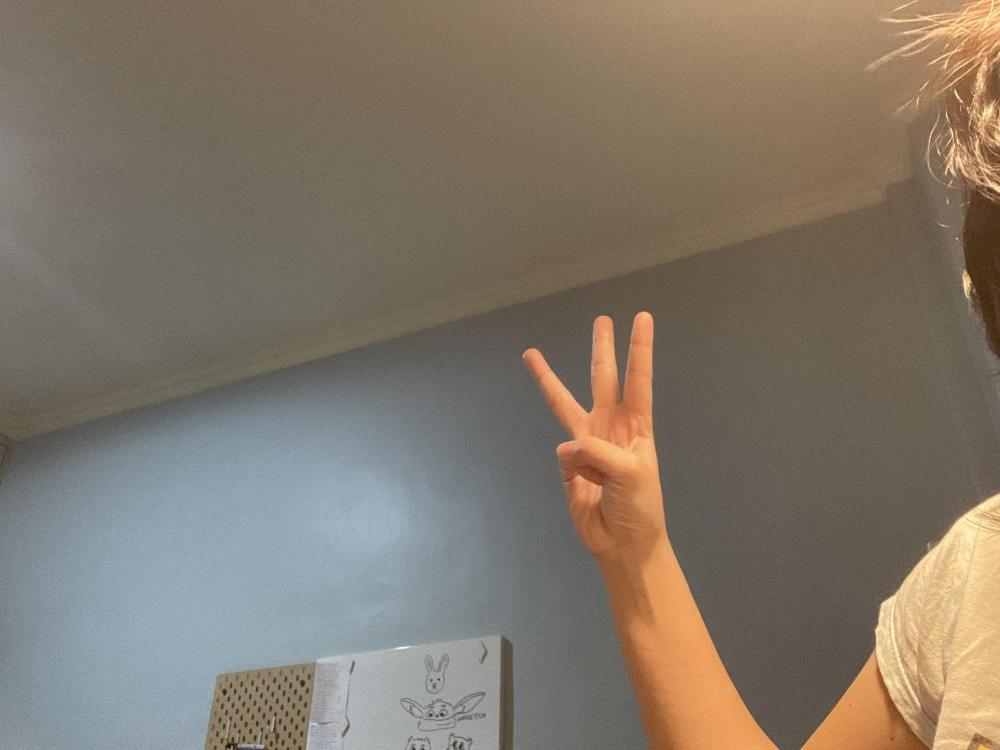w: (521, 310, 663, 555)
